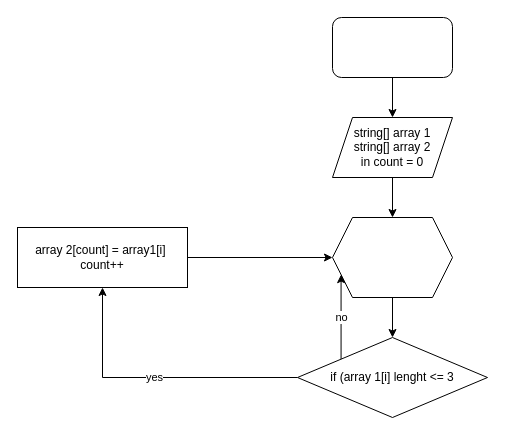
Some shapes in this 505 by 435 pixel diagram are drawn without their labels. Each missing label, with the centre of its shape:
"for (int i = 0; i < array 1 lenght; i++)" belongs at (392,257).
"SecondArrayWithIf" belongs at (392,47).
